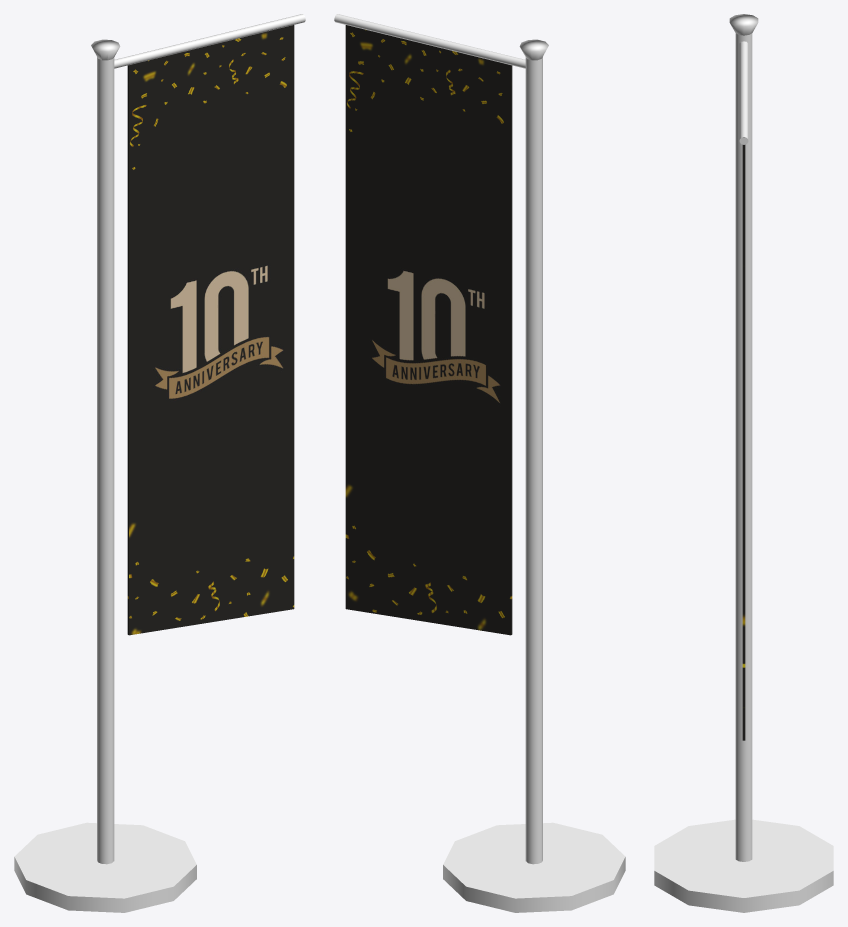
Rendered from YGB0210005.fbx.
3 views of the same model, side by side, from view 1: azimuth 30°, elevation 25°; view 2: azimuth 150°, elevation 25°; view 3: azimuth 270°, elevation 25° (orthographic). The views are drawn at different scales.
Parts seen in each view (by area): view 1: smYGB0210005; view 2: smYGB0210005; view 3: smYGB0210005.
Boxes of the visible parts, <box> form: smYGB0210005: <box>14,14,305,912</box>; smYGB0210005: <box>334,14,625,912</box>; smYGB0210005: <box>654,14,833,912</box>.
Bounding box in the file's own units: 74.72 × 214 × 40.73.
Materials: 1 (1 with a texture image).
